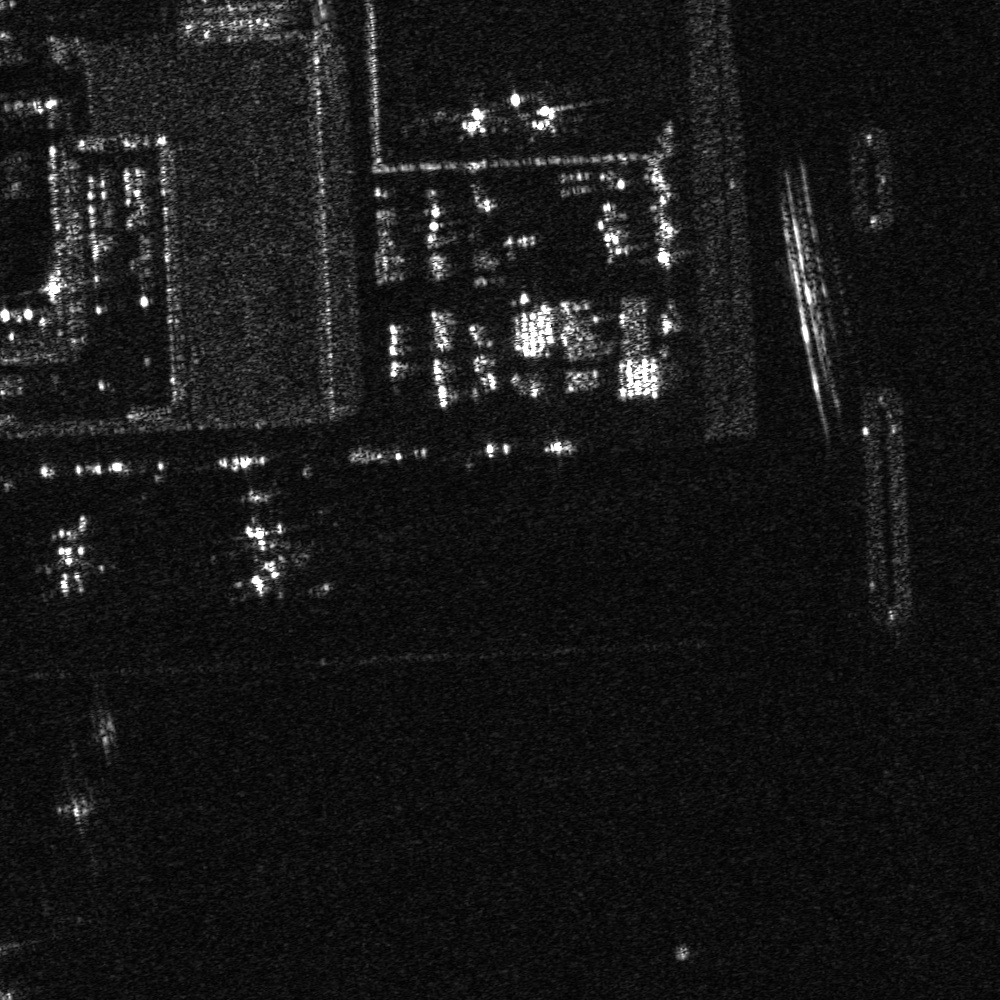ARJ21: (446, 87, 513, 148)
Boeing737: (25, 507, 124, 605)
other: (211, 504, 328, 609), (518, 84, 614, 132)
